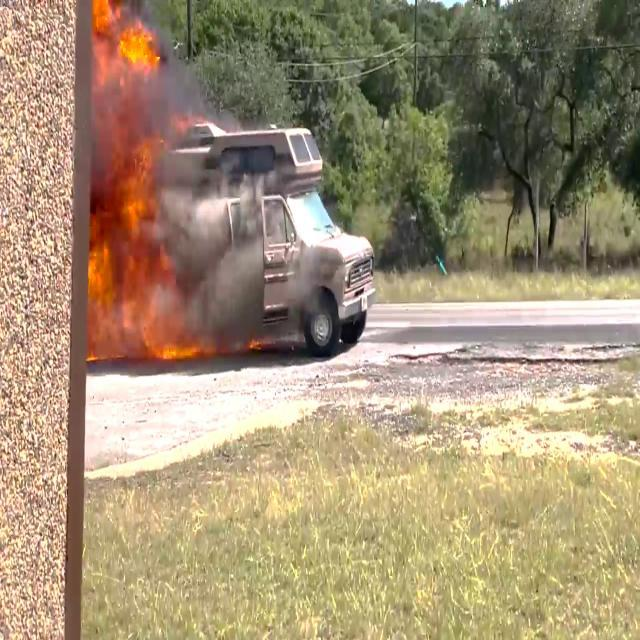Fire: (82, 6, 184, 359), (148, 335, 208, 365)
Smoke: (157, 167, 363, 357)
